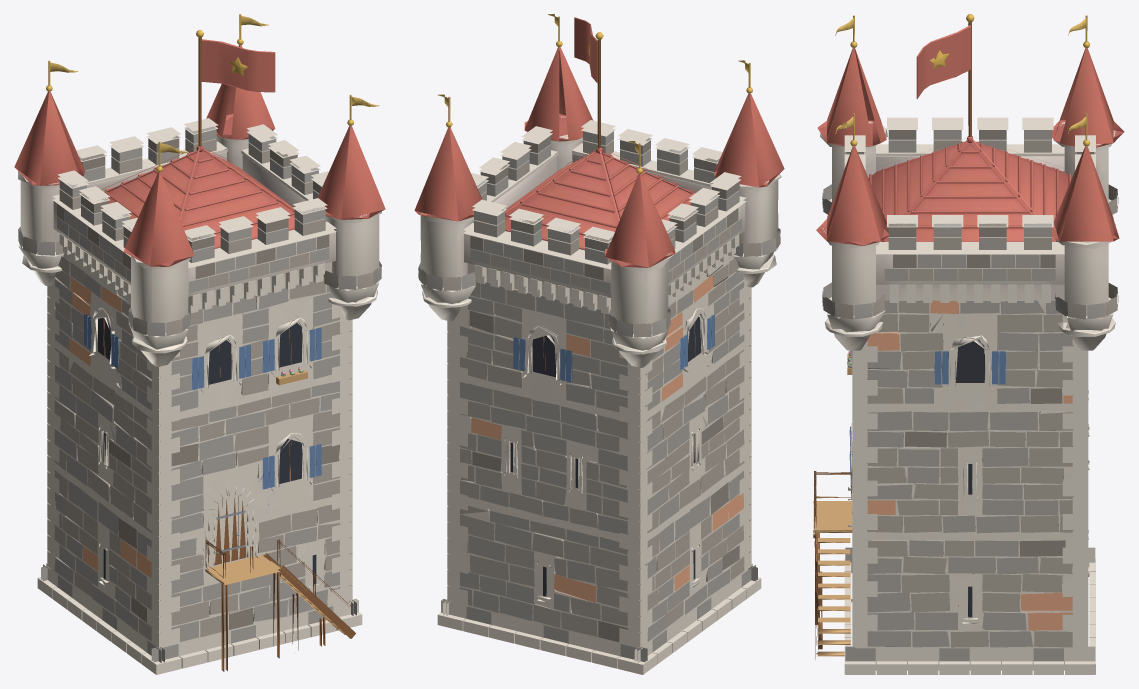
3 views of the same model, side by side, from view 1: azimuth 30°, elevation 25°; view 2: azimuth 150°, elevation 25°; view 3: azimuth 270°, elevation 25° (orthographic). The views are drawn at different scales.
Parts seen in each view (by area): view 1: keep_masonry, keep_body, keep_details, keep_trim, keep_stonework; view 2: keep_masonry, keep_body, keep_details, keep_stonework, keep_trim; view 3: keep_masonry, keep_body, keep_details, keep_trim, keep_stonework.
Part boxes in pixels (x1,y1,x2,y2): keep_masonry: (18, 126, 381, 662); keep_body: (14, 45, 385, 656); keep_details: (18, 37, 381, 674); keep_trim: (46, 14, 379, 376); keep_stonework: (69, 277, 152, 577); keep_masonry: (418, 131, 780, 662); keep_body: (414, 47, 784, 656); keep_details: (421, 39, 781, 674); keep_stonework: (471, 274, 743, 602); keep_trim: (438, 14, 752, 173); keep_masonry: (822, 130, 1118, 661); keep_body: (816, 48, 1124, 670); keep_details: (813, 22, 1115, 674); keep_trim: (835, 14, 1089, 365); keep_stonework: (867, 300, 1073, 630).
Size of the model in its own units: 9.15 by 20.28 by 9.42.
16 materials, 1 textured.
